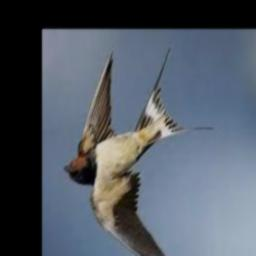Swallow: (65, 49, 213, 256)
